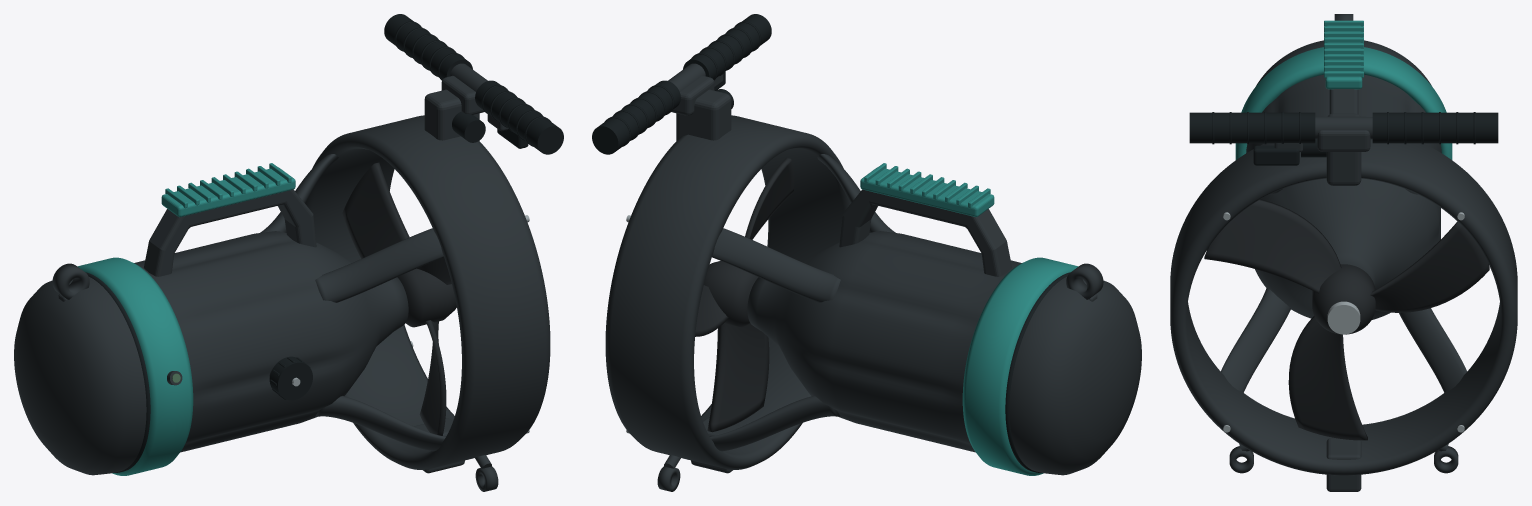
3 renders of one model, left to right at view 1: azimuth 30°, elevation 25°; view 2: azimuth 150°, elevation 25°; view 3: azimuth 270°, elevation 25°, orthographic.
Visible parts, largest first — view 1: Broad complete propeller shroud, Axially recessed closed main body, Squat rounded closed nose, Wide circumferential closure collar, Open molded carry arch, Curved shroud support 1, Original static swept vane 1, Rear hand grip -1, Curved shroud support 2, Static central rotor hub, Raised top accessory rail, Rear hand grip 1 (+8 smaller); view 2: Broad complete propeller shroud, Axially recessed closed main body, Squat rounded closed nose, Wide circumferential closure collar, Original static swept vane 3, Open molded carry arch, Curved shroud support 0, Rear hand grip 1, Curved shroud support 3, Raised top accessory rail, Rear hand grip -1, Static central rotor hub (+7 smaller); view 3: Broad complete propeller shroud, Axially recessed closed main body, Original static swept vane 2, Original static swept vane 3, Original static swept vane 1, Wide circumferential closure collar, Rear hand grip 1, Rear hand grip -1, Curved shroud support 2, Curved shroud support 3, Static central rotor hub, Lower shroud attachment block (+10 smaller).
Part boxes in pixels (bbox=[...]): Broad complete propeller shroud: bbox=[305, 115, 550, 469]; Axially recessed closed main body: bbox=[134, 231, 408, 452]; Squat rounded closed nose: bbox=[14, 277, 146, 475]; Wide circumferential closure collar: bbox=[77, 257, 193, 475]; Open molded carry arch: bbox=[144, 189, 316, 276]; Curved shroud support 1: bbox=[315, 228, 443, 302]; Original static swept vane 1: bbox=[342, 162, 409, 258]; Rear hand grip -1: bbox=[475, 80, 563, 154]; Curved shroud support 2: bbox=[315, 396, 445, 451]; Static central rotor hub: bbox=[397, 268, 456, 327]; Raised top accessory rail: bbox=[161, 167, 295, 217]; Rear hand grip 1: bbox=[384, 14, 472, 79]; Broad complete propeller shroud: bbox=[605, 115, 850, 469]; Axially recessed closed main body: bbox=[747, 231, 1021, 452]; Squat rounded closed nose: bbox=[1009, 277, 1141, 475]; Wide circumferential closure collar: bbox=[962, 257, 1078, 475]; Original static swept vane 3: bbox=[707, 323, 769, 432]; Open molded carry arch: bbox=[839, 189, 1011, 276]; Curved shroud support 0: bbox=[712, 228, 840, 302]; Rear hand grip 1: bbox=[592, 80, 680, 154]; Curved shroud support 3: bbox=[710, 395, 840, 451]; Raised top accessory rail: bbox=[860, 167, 994, 217]; Rear hand grip -1: bbox=[683, 14, 771, 79]; Static central rotor hub: bbox=[704, 261, 758, 327]; Broad complete propeller shroud: bbox=[1170, 139, 1517, 475]; Axially recessed closed main body: bbox=[1246, 74, 1441, 319]; Original static swept vane 2: bbox=[1204, 199, 1341, 293]; Original static swept vane 3: bbox=[1288, 316, 1367, 440]; Original static swept vane 1: bbox=[1370, 221, 1489, 312]; Wide circumferential closure collar: bbox=[1235, 47, 1452, 159]; Rear hand grip 1: bbox=[1372, 112, 1498, 143]; Rear hand grip -1: bbox=[1189, 112, 1315, 143]; Curved shroud support 2: bbox=[1221, 288, 1290, 392]; Curved shroud support 3: bbox=[1399, 308, 1466, 392]; Static central rotor hub: bbox=[1312, 264, 1375, 334]; Lower shroud attachment block: bbox=[1326, 438, 1361, 491].
Bounding box in the file's own units: 0.5108 × 0.4188 × 0.34.
